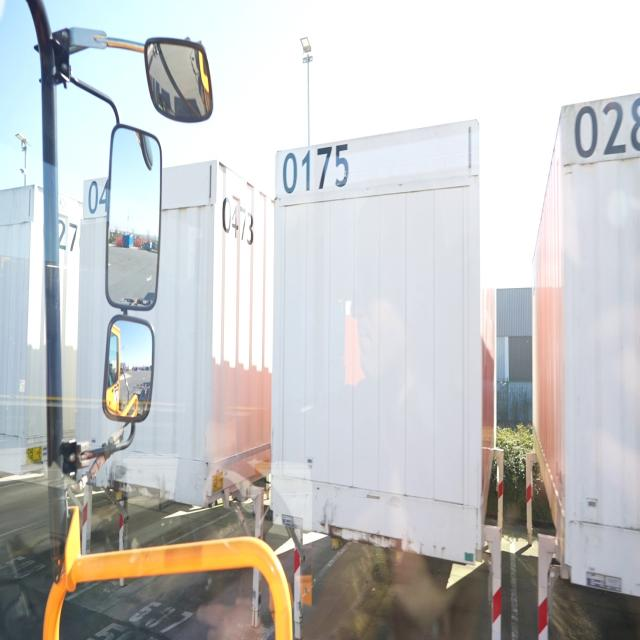Code: (276, 143, 360, 195), (218, 182, 258, 252)
